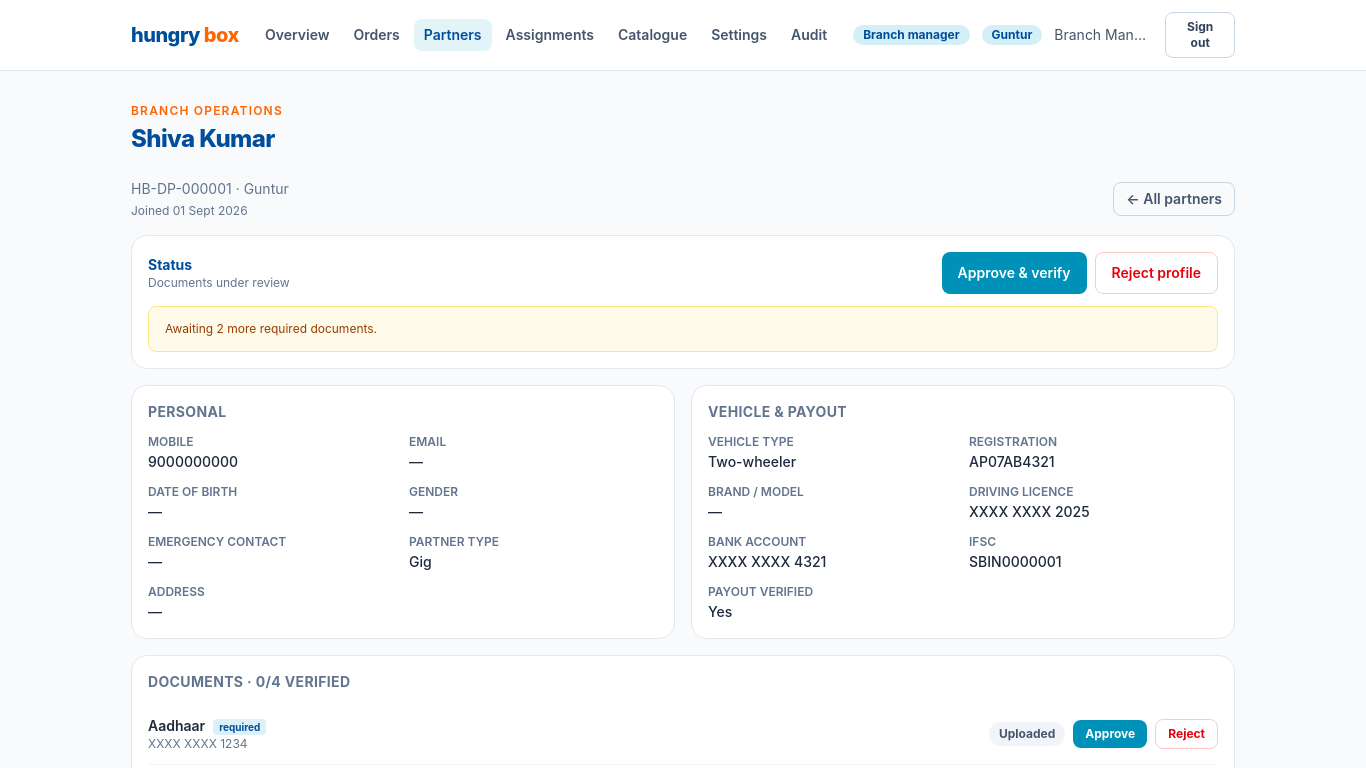
manager partner detail › approves a reviewed profile via the verify action
expect the heading "Shiva Kumar" is shown: met, box [131,123,283,155]
What coordinates should you click on to do the following:
click the button "Approve & verify"
I would click on:
 (1014, 273)
Its box is [942,252,1087,294].
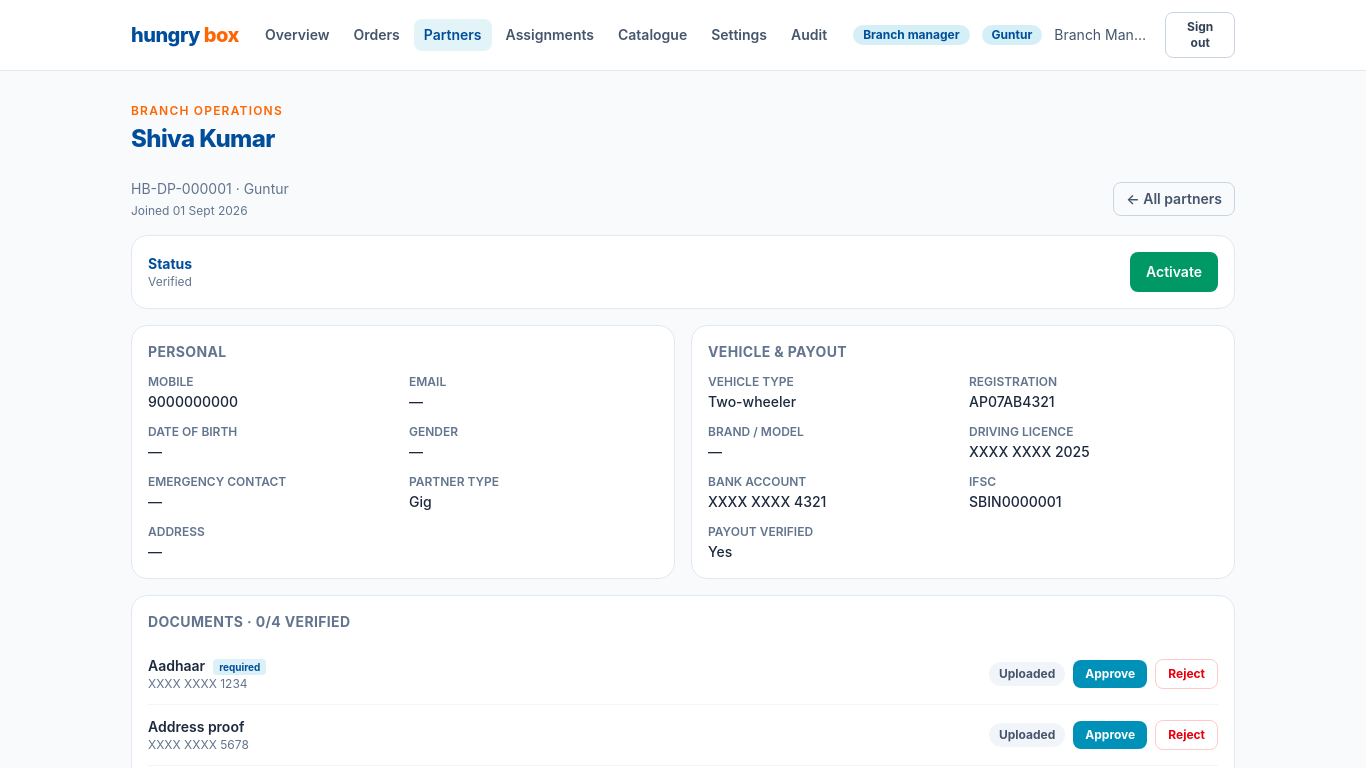
expect the button "Activate" is shown: met, box [1130,252,1218,292]
